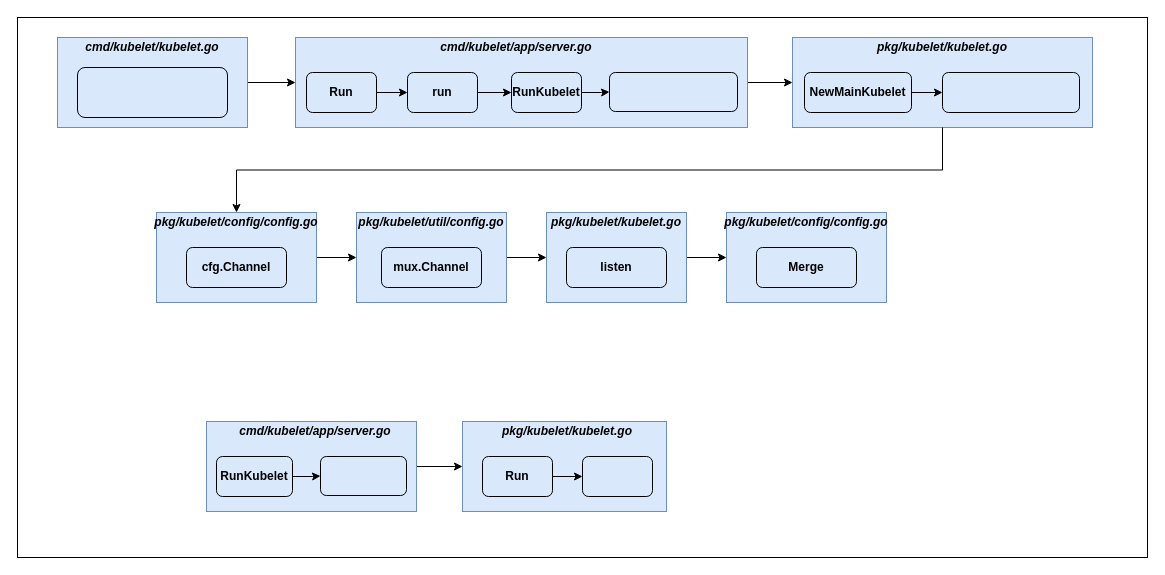
The diagram is 1165 pixels wide and 575 high, and some of its shapes have lost their labels. The shapes that lost their labels are listed below. From the top down, each one's box as (x1, y1, x2, y2) in pixels, then its label:
(76, 66, 228, 118): NewKubeletCommand
(608, 72, 738, 112): CreateAndInitKubelet
(942, 72, 1080, 112): makePodSourceConfig
(320, 456, 406, 496): startKubelet
(582, 456, 652, 496): syncLoop
